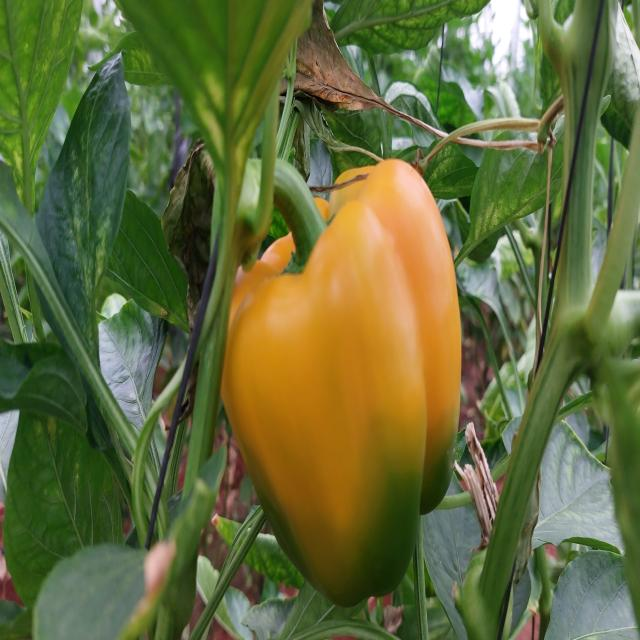GreenishYellow--Can-be-Harvested: (217, 158, 508, 610)
